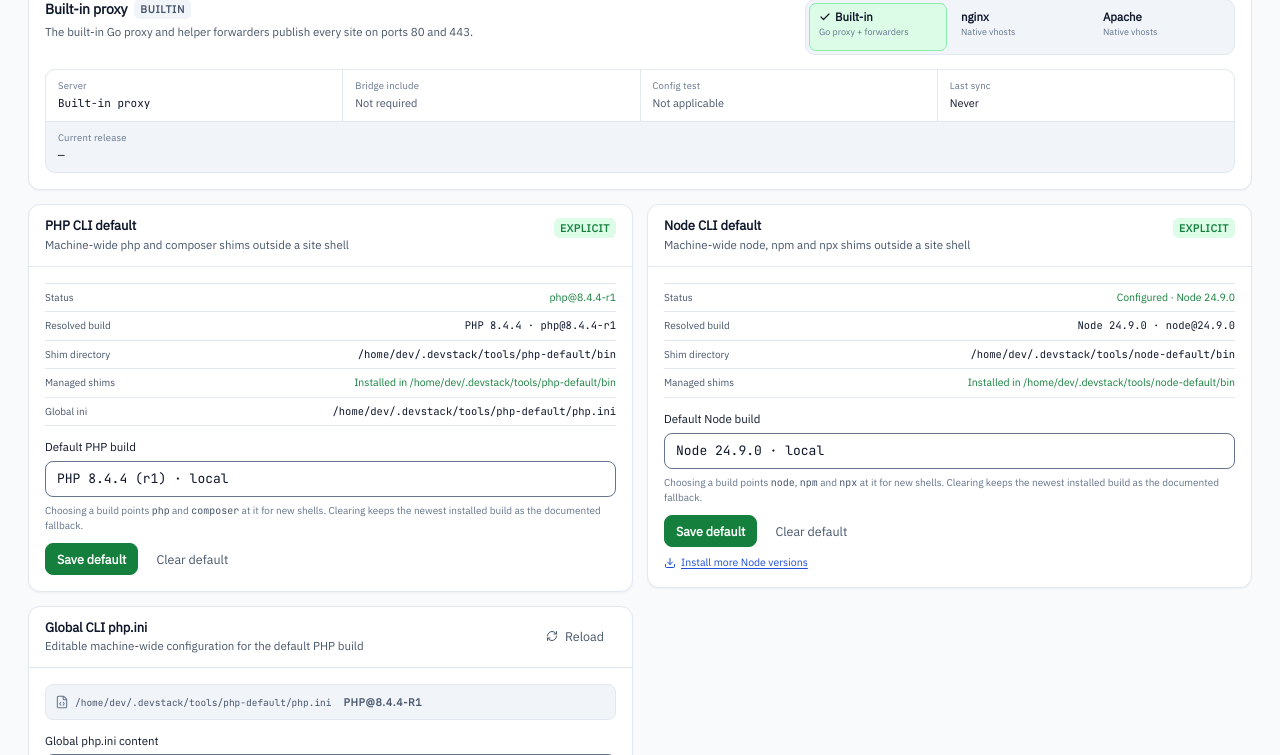
Test: Settings tooling › saves and clears the node cli default
(page scrolled)
Step 1. Select "Node 22.11.0 · local" in the dropdown labelled "Default Node build" → (950, 451), box 664,433 -> 1235,469
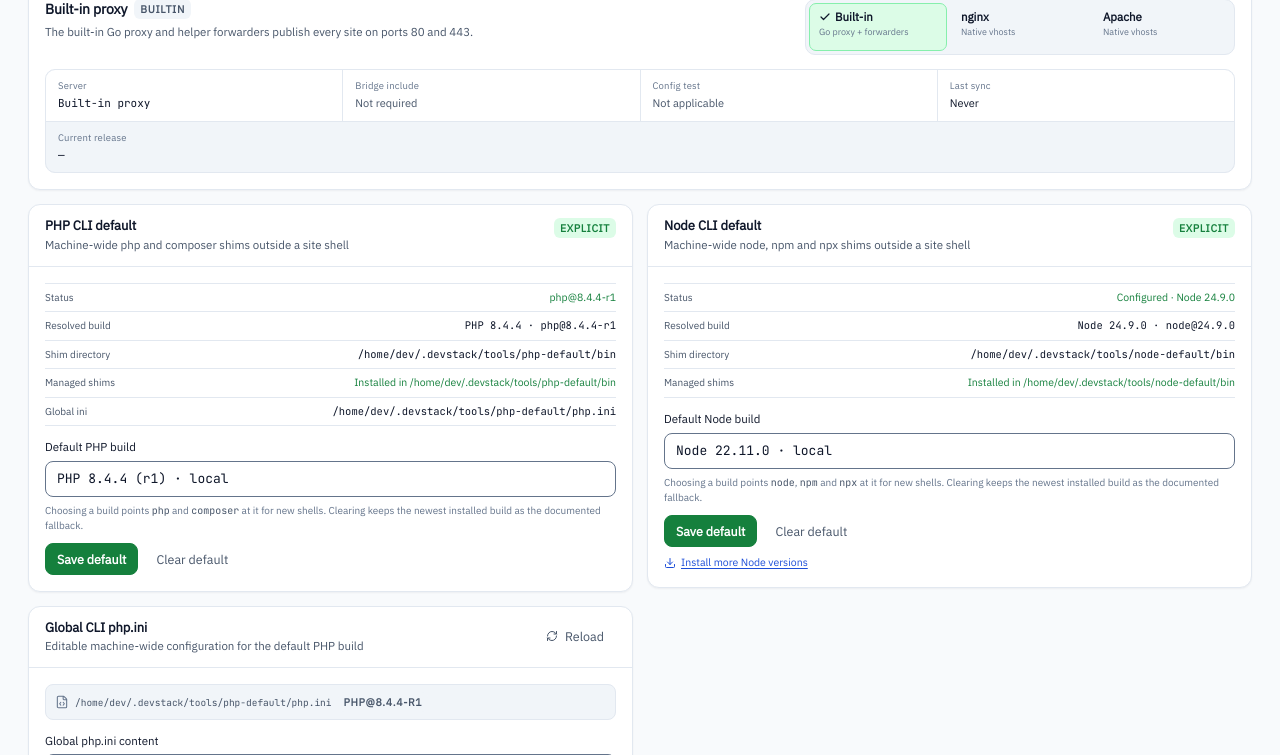
Step 2. Click the button with aria-label "Save Node default" → click(711, 531), box 664,515 -> 757,547
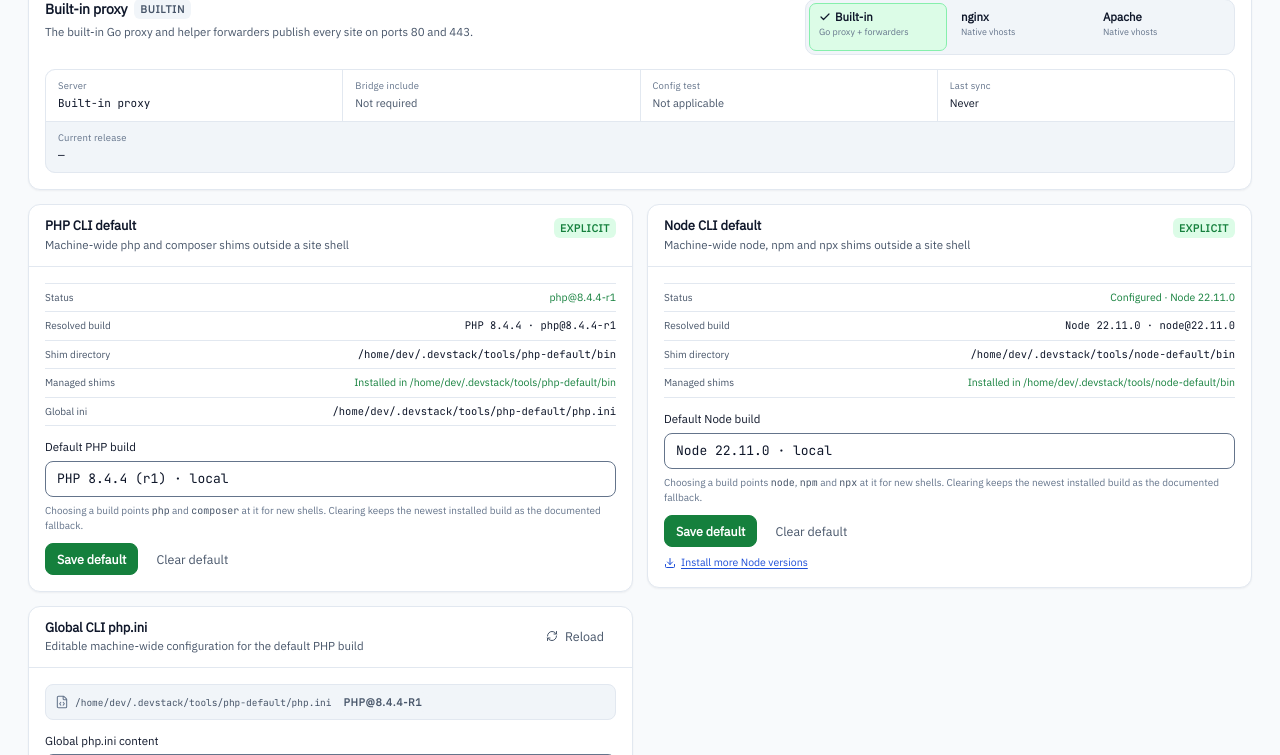
Check: the element "Node CLI default" shows "Node 22.11.0", box 1110,290 -> 1235,304
Step 3. Click the button with aria-label "Clear Node default" → click(811, 531), box 763,515 -> 859,547
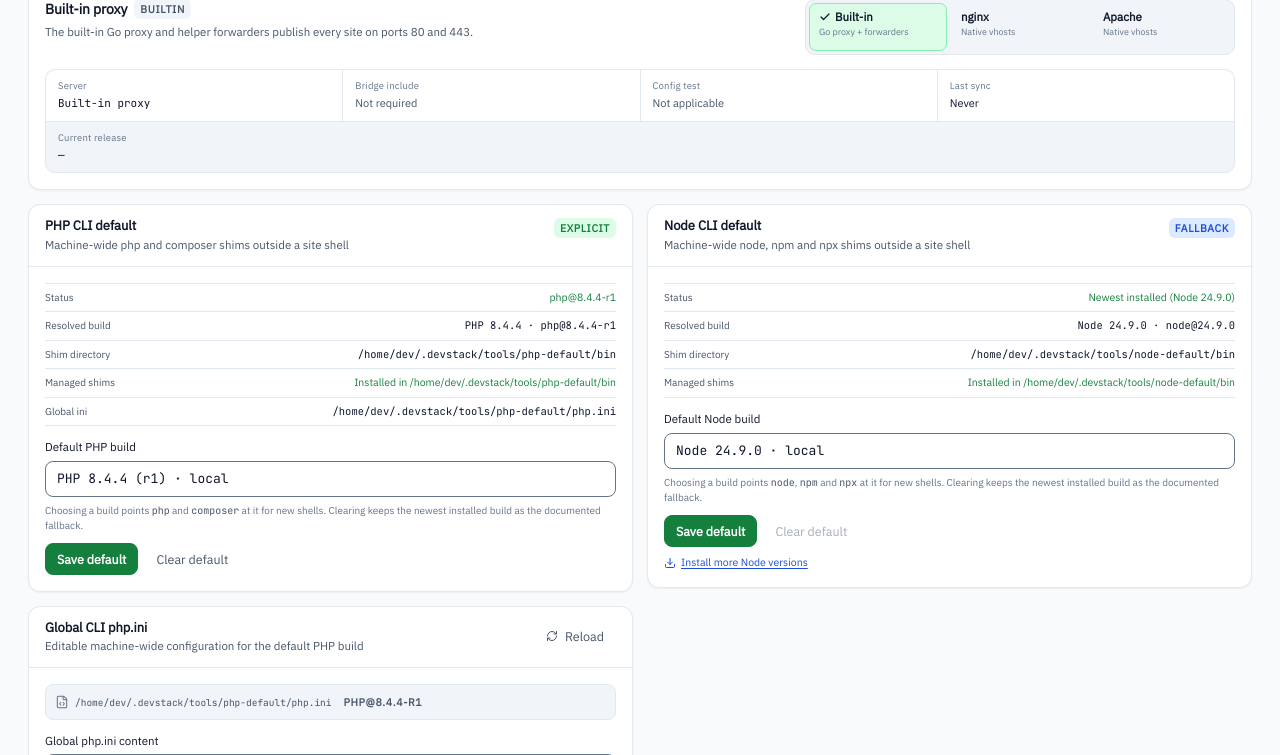
Check: the link "Install more Node versions" is shown, box 664,555 -> 808,571
Check: the element "Node CLI default" shows "Newest installed (Node 24.9.0)", box 1088,290 -> 1235,304
